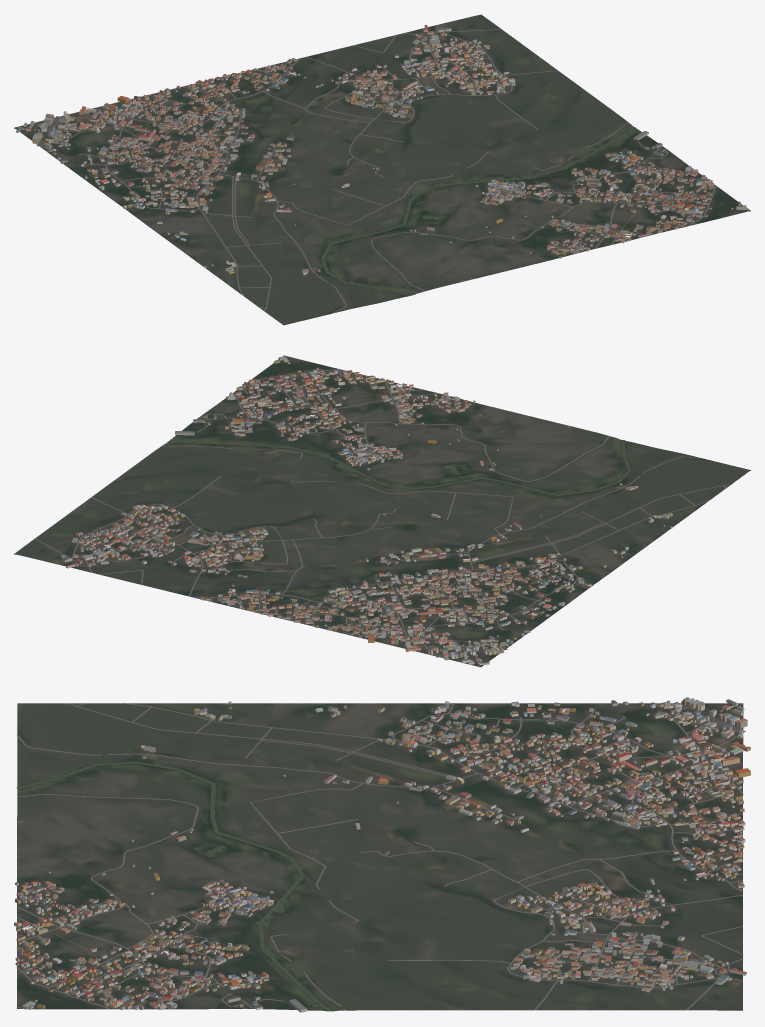
3 renders of one model, top to bottom at view 1: azimuth 30°, elevation 25°; view 2: azimuth 150°, elevation 25°; view 3: azimuth 270°, elevation 25°, orthographic. The views are drawn at different scales.
Visible parts, largest first — view 1: ground, buildings, roads, water; view 2: ground, buildings, roads, water; view 3: ground, buildings, roads, water.
Part boxes in pixels (bbox=[...]): ground: bbox=[14, 14, 750, 325]; buildings: bbox=[16, 25, 746, 275]; roads: bbox=[15, 25, 748, 313]; water: bbox=[276, 126, 635, 295]; ground: bbox=[14, 355, 750, 667]; buildings: bbox=[60, 356, 672, 665]; roads: bbox=[34, 356, 731, 666]; water: bbox=[167, 438, 631, 568]; ground: bbox=[17, 703, 743, 1011]; buildings: bbox=[14, 697, 750, 1012]; roads: bbox=[16, 702, 745, 1010]; water: bbox=[16, 761, 551, 1011].
Bounding box in the file's own units: 1420 × 20.12 × 1423.
